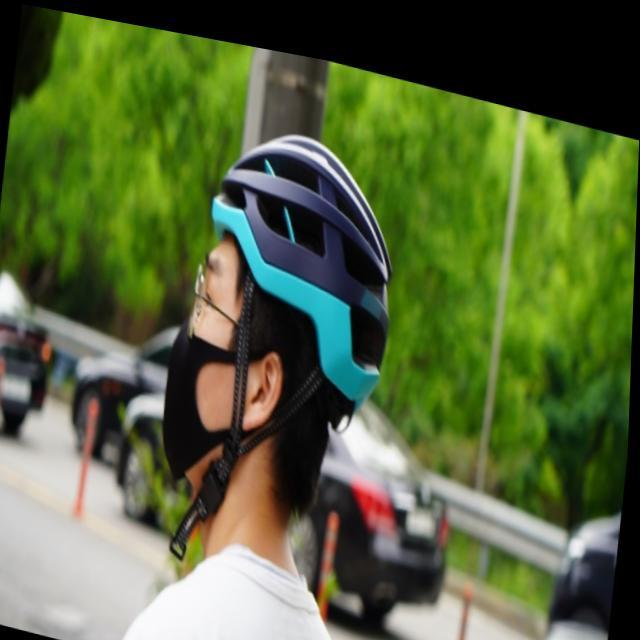Helmet: (153, 110, 395, 515)
